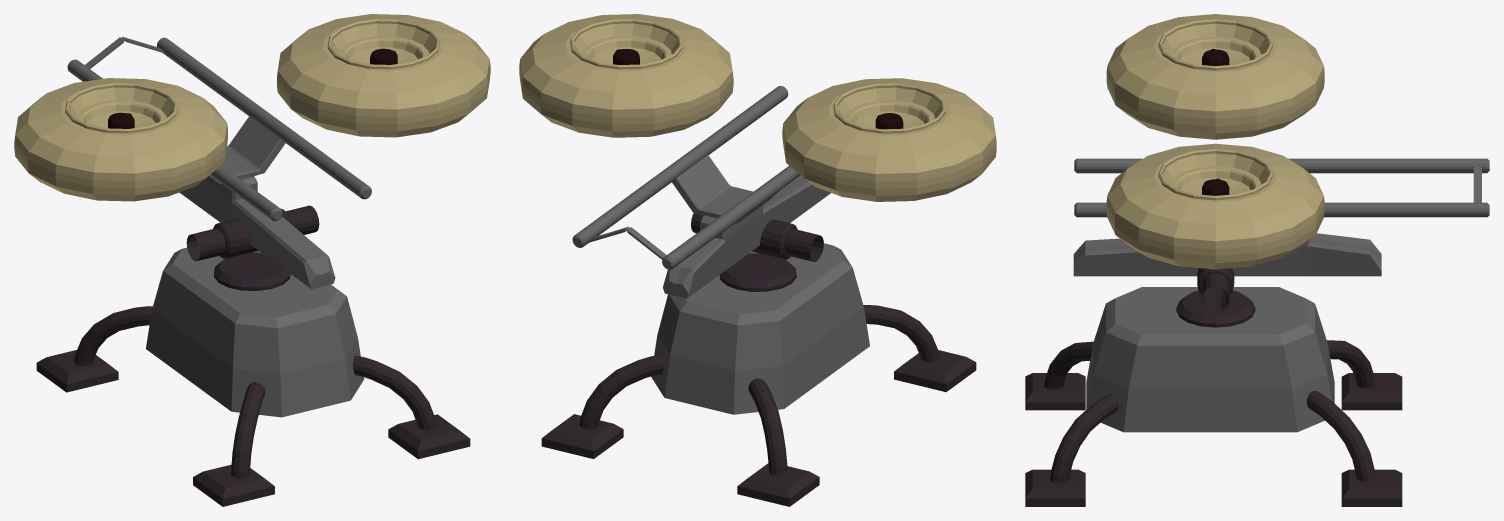
The model's file is FoodballCanon_01.fbx.
3 views of the same model, side by side, from view 1: azimuth 30°, elevation 25°; view 2: azimuth 150°, elevation 25°; view 3: azimuth 270°, elevation 25° (orthographic).
Visible parts, largest first — view 1: FoodballCanon_01; view 2: FoodballCanon_01; view 3: FoodballCanon_01.
Part boxes in pixels (left/top/right/bottom): FoodballCanon_01: left=14, top=14, right=490, bottom=506; FoodballCanon_01: left=519, top=14, right=996, bottom=506; FoodballCanon_01: left=1025, top=14, right=1489, bottom=506.
Bounding box in the file's own units: 153 × 108 × 135.
